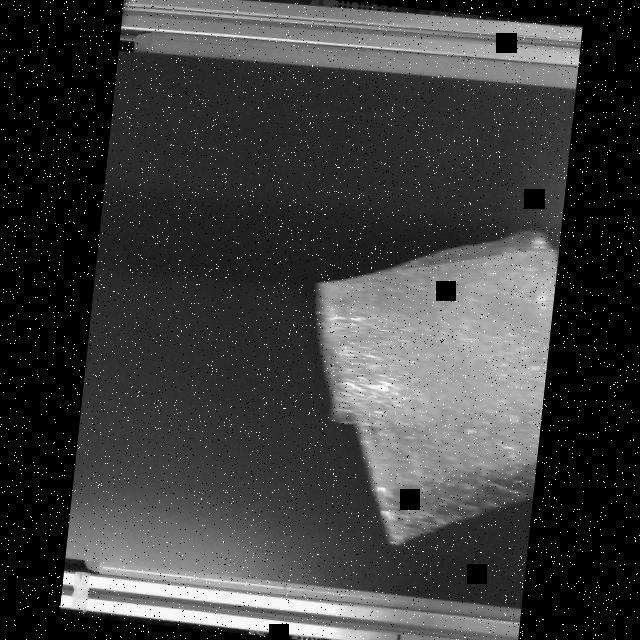scrap_plastic: (286, 208, 558, 558)
